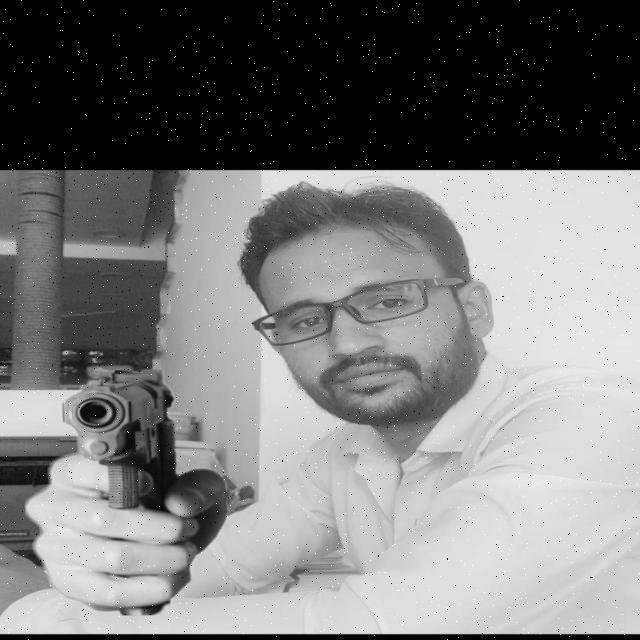gun: (45, 351, 192, 628)
